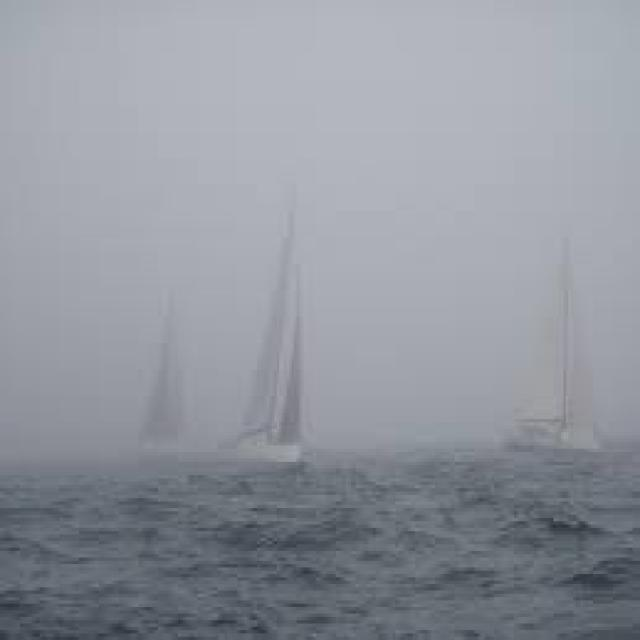sailboat: (502, 220, 620, 468), (215, 193, 305, 469), (120, 295, 188, 449)
